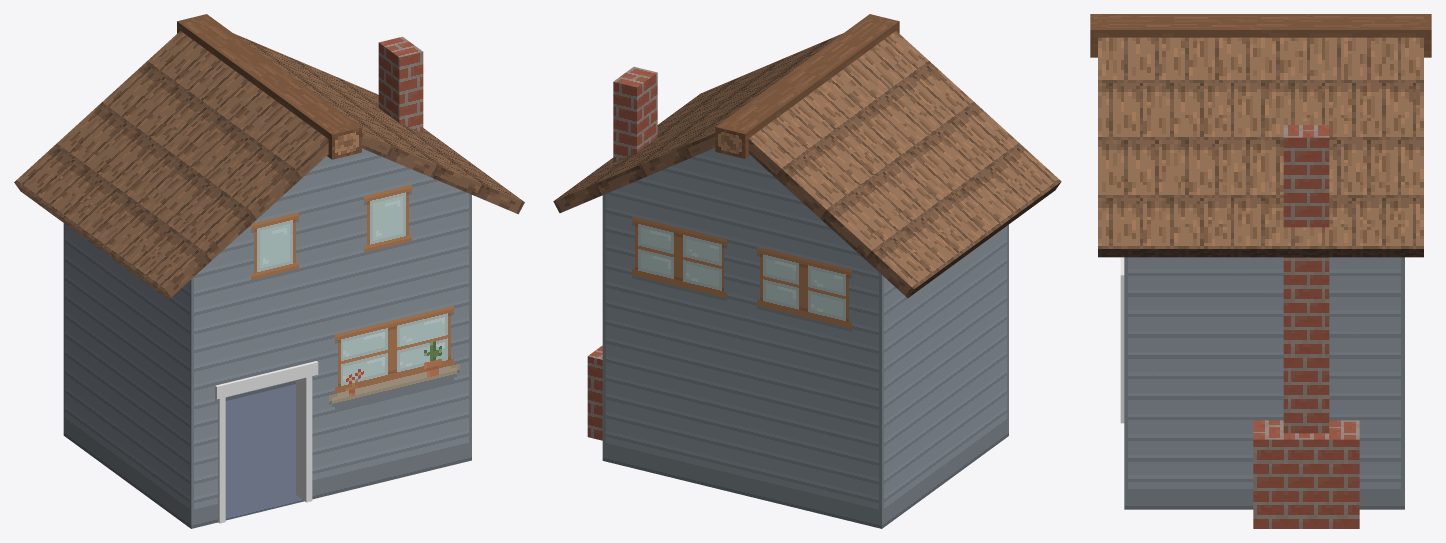
File: beta.gltf
3 renders of one model, left to right at view 1: azimuth 30°, elevation 25°; view 2: azimuth 150°, elevation 25°; view 3: azimuth 270°, elevation 25°, orthographic. The views are drawn at different scales.
Parts seen in each view (by area): view 1: cuboid (×8); view 2: cuboid (×6); view 3: cuboid (×6).
Part boxes in pixels (x1,y1,x2,y2): cuboid (×8): (14,14,524,528); cuboid (×6): (553,14,1061,528); cuboid (×6): (1090,14,1431,528).
Size of the model in its own units: 7.59 by 7.5 by 5.62.
Materials: 4 (3 with a texture image).
